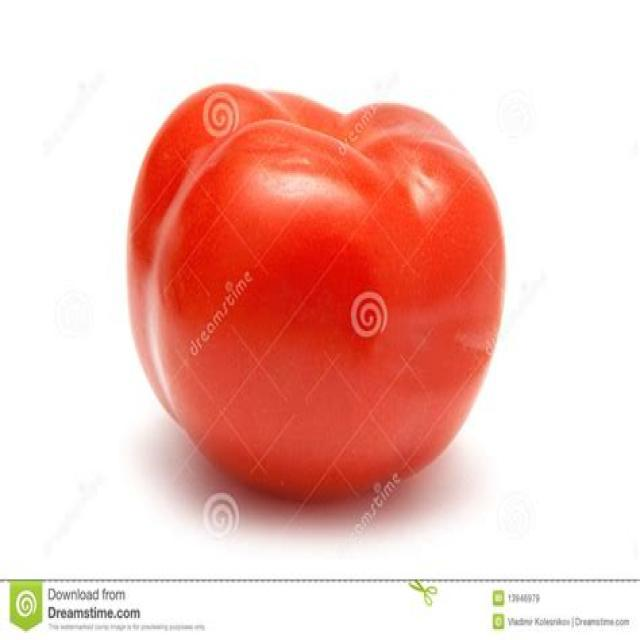Tomato: (125, 83, 510, 519)
